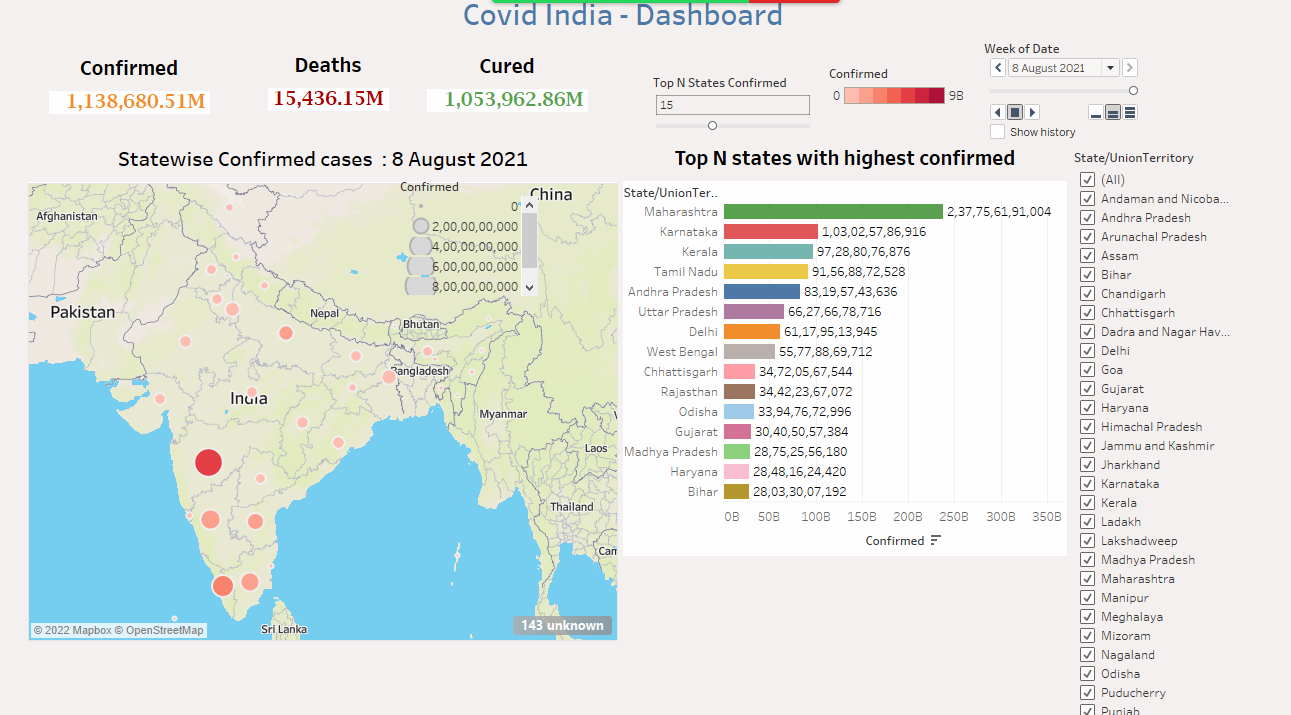

Layout of this report page (visuals, bound fields, positions):
{"tool":"tableau","page":{"name":"Dashboard 1","canvas":[1500,1000],"ordinal":0},"visuals":[{"type":"title","box":[8,8,1484,52]},{"type":"legend","title":"map","param":"[federated.00nvjpg0g0ux0m117mhn81f1wkzd].[sum:Confirmed:qk]","box":[1076,74,140,56]},{"type":"currpage","title":"map","box":[1332,77,160,105]},{"type":"worksheet","title":"barchart","mark":"Automatic","rows":["State/UnionTerritory"],"cols":["Confirmed"],"box":[749,161,584,682]},{"type":"parameter","param":"[Parameters].[Parameter 1]","box":[1334,193,160,67]},{"type":"legend","title":"map","param":"[federated.00nvjpg0g0ux0m117mhn81f1wkzd].[sum:Confirmed:qk]","box":[575,230,140,118]},{"type":"filter","title":"map","param":"[federated.00nvjpg0g0ux0m117mhn81f1wkzd].[none:State/UnionTerritory:nk]","box":[1333,269,160,736]}]}

Visuals, with their boxes on the page's 1500x1000 design canvas (x1, y1, x2, y2). These are canvas units, not pixel positions in the 1291x715 screenshot, which may show the page scaled, cropped or inside an application window:
title: [8,8,1492,60]
"map" legend: [1076,74,1216,130]
"map" currpage: [1332,77,1492,182]
"barchart" worksheet: [749,161,1333,843]
parameter: [1334,193,1494,260]
"map" legend: [575,230,715,348]
"map" filter: [1333,269,1493,1005]
